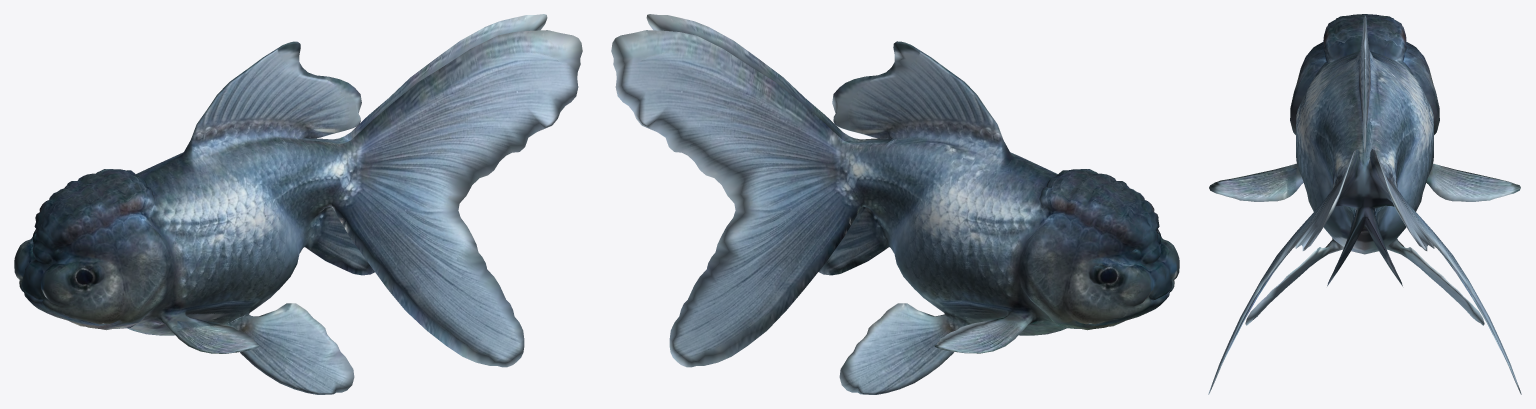
Rendered from fish.glb.
3 renders of one model, left to right at view 1: azimuth 30°, elevation 25°; view 2: azimuth 150°, elevation 25°; view 3: azimuth 270°, elevation 25°, orthographic.
Parts seen in each view (by area): view 1: fish; view 2: fish; view 3: fish.
Boxes of the visible parts, x1,y1,x2,y2 form: fish: (14,14,582,394); fish: (611,14,1179,394); fish: (1208,14,1521,394).
Bounding box in the file's own units: 0.12 × 0.0655 × 0.06.
1 material, 1 textured.
